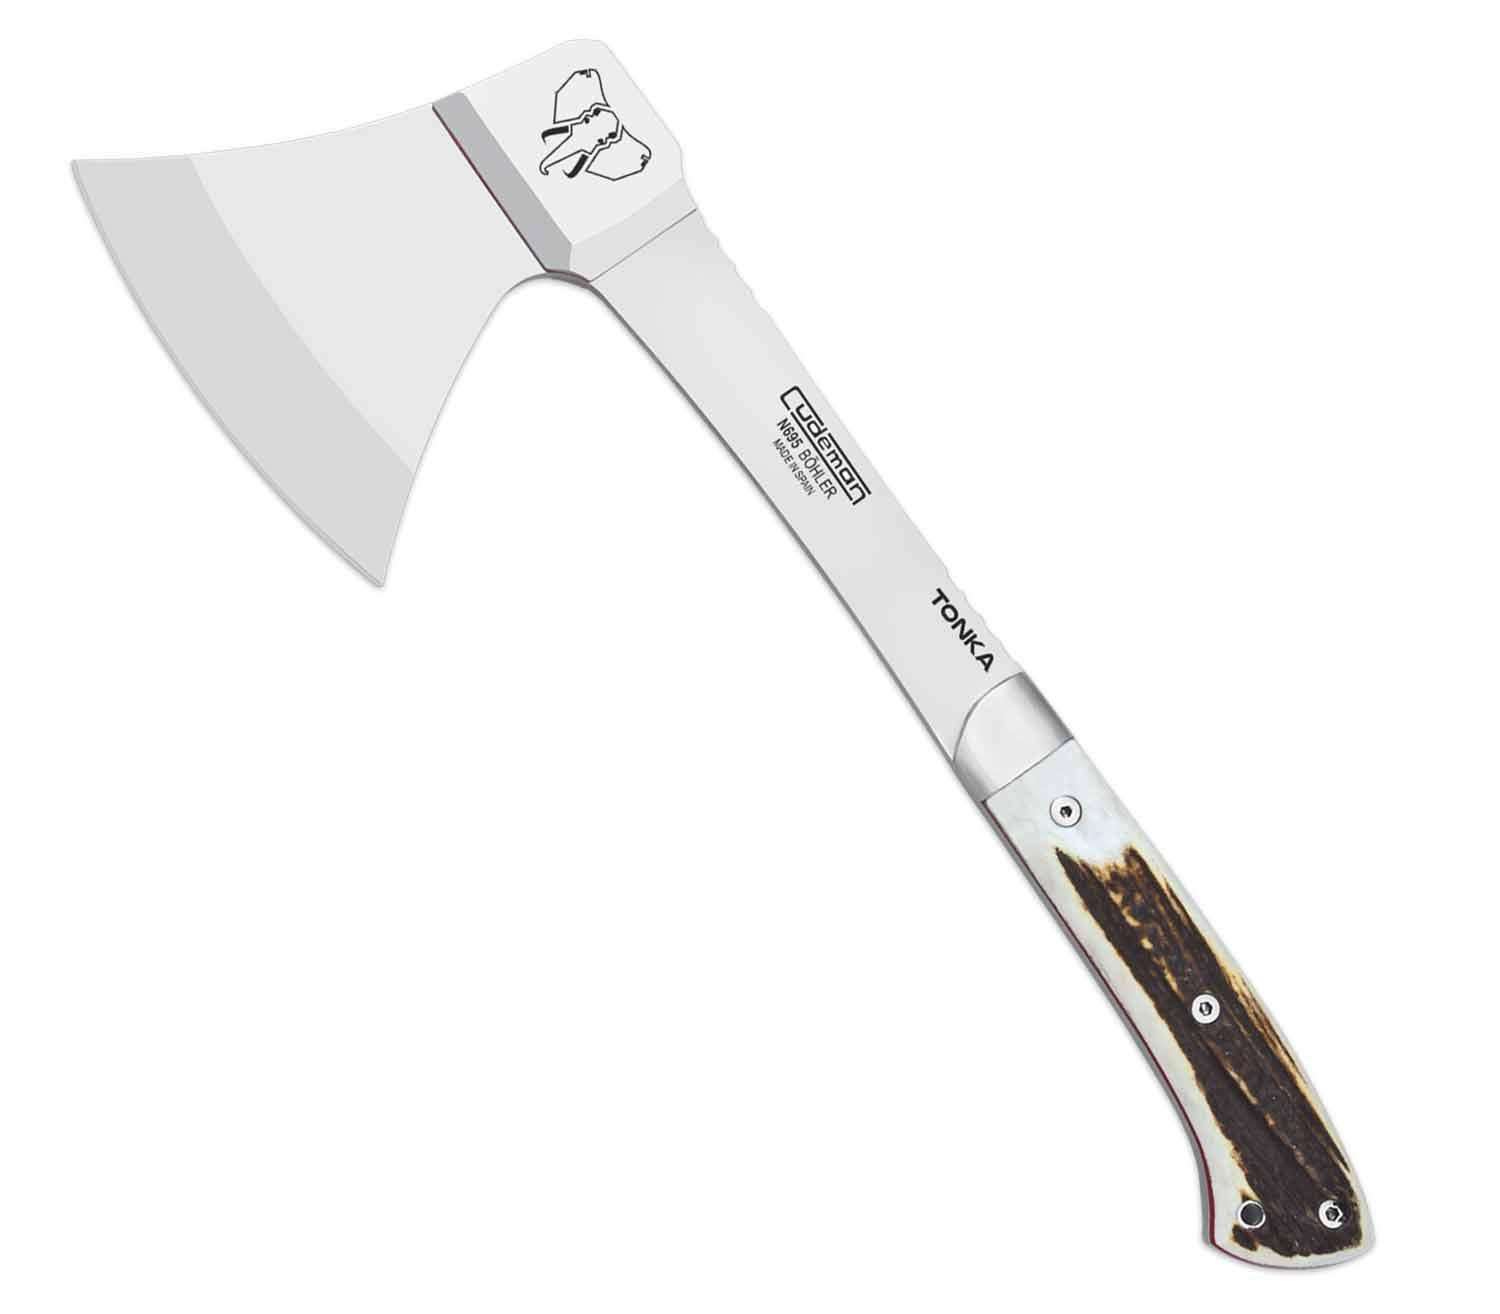machado: (74, 40, 1372, 1268)
